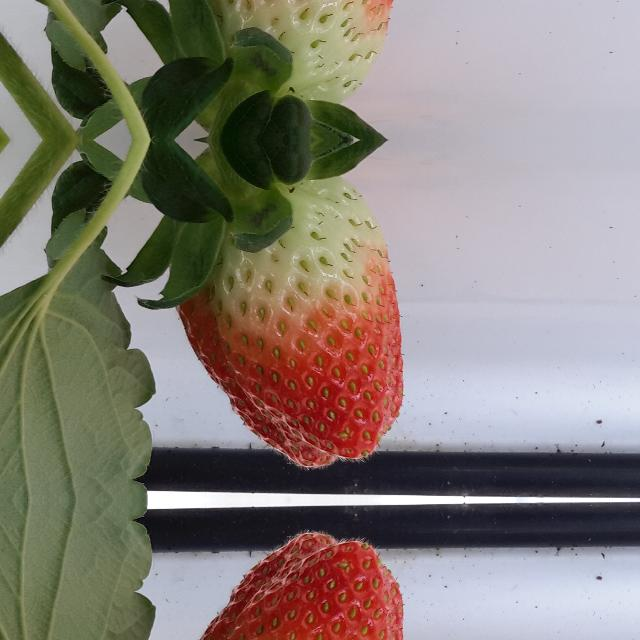Health_75: (173, 175, 403, 468), (173, 532, 403, 640), (173, 0, 403, 105)
